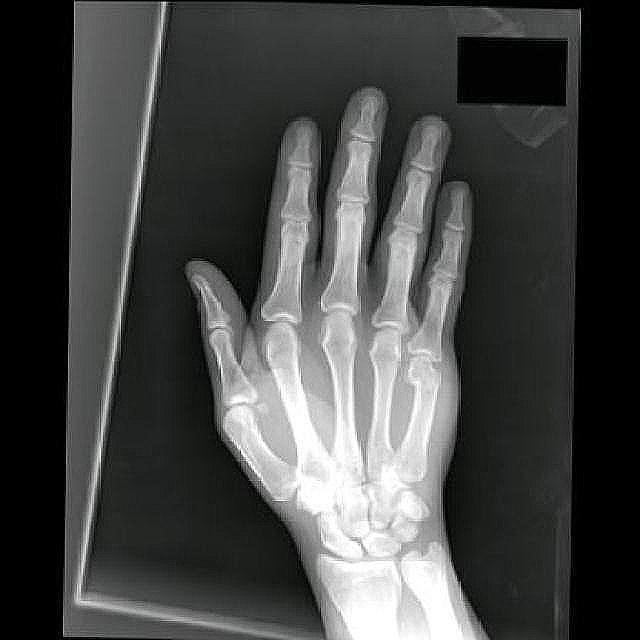bone: (403, 358, 448, 404)
